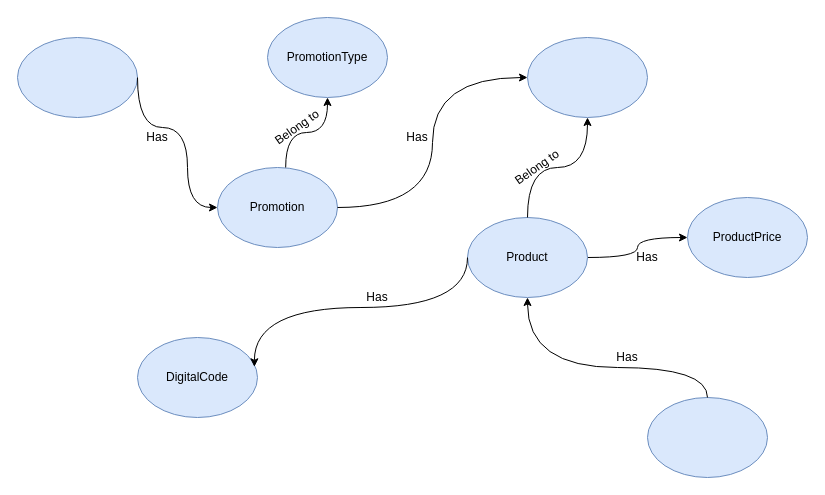
Image size: 825x495. Some labels were removed from this diagram. Each missing label, with the centre of its shape:
"Campaign" goes at point (77, 77).
"Partner" goes at point (707, 437).
"PromotionProduct" goes at point (587, 77).
